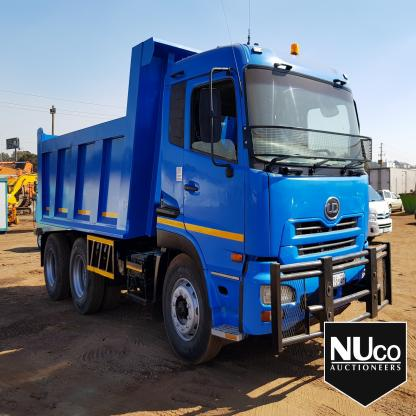dump_truck: (26, 29, 401, 369)
